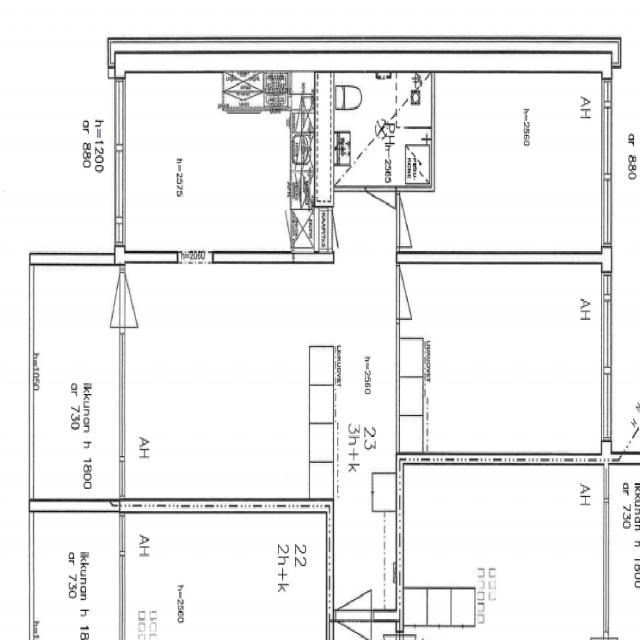door: (118, 272, 160, 327), (84, 272, 125, 327), (336, 555, 370, 621), (395, 194, 433, 247), (396, 266, 432, 318), (365, 185, 395, 238)
